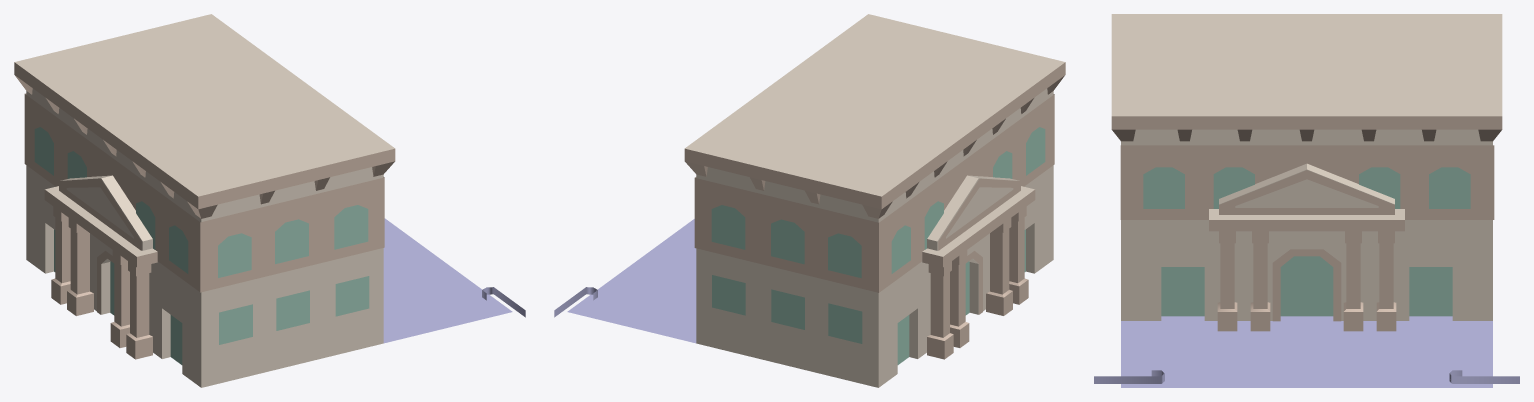
The model's file is civitavecchiaBank.fbx.
The picture shows the model from 3 angles, left to right: view 1: azimuth 30°, elevation 25°; view 2: azimuth 150°, elevation 25°; view 3: azimuth 270°, elevation 25°; orthographic projection. The views are drawn at different scales.
Visible parts, largest first — view 1: civitavecchiaBank_1, civitavecchiaBank_3, civitavecchiaBank_2, civitavecchiaBank_parking_5; view 2: civitavecchiaBank_1, civitavecchiaBank_3, civitavecchiaBank_2, civitavecchiaBank_parking_5; view 3: civitavecchiaBank_1, civitavecchiaBank_3, civitavecchiaBank_parking_5, civitavecchiaBank_2, civitavecchiaBank_guardrail_5.
Part boxes in pixels (x1,y1,x2,y2): civitavecchiaBank_1: (14,14,394,387); civitavecchiaBank_3: (14,62,395,359); civitavecchiaBank_2: (34,127,369,364); civitavecchiaBank_parking_5: (383,218,512,343); civitavecchiaBank_1: (685,14,1065,387); civitavecchiaBank_3: (684,62,1065,359); civitavecchiaBank_2: (711,127,1045,364); civitavecchiaBank_parking_5: (567,219,696,343); civitavecchiaBank_1: (1111,14,1502,320); civitavecchiaBank_3: (1111,116,1502,331); civitavecchiaBank_parking_5: (1121,316,1492,387); civitavecchiaBank_2: (1143,167,1470,316); civitavecchiaBank_guardrail_5: (1094,370,1519,383).
Size of the model in its own units: 19.28 by 10.81 by 20.
